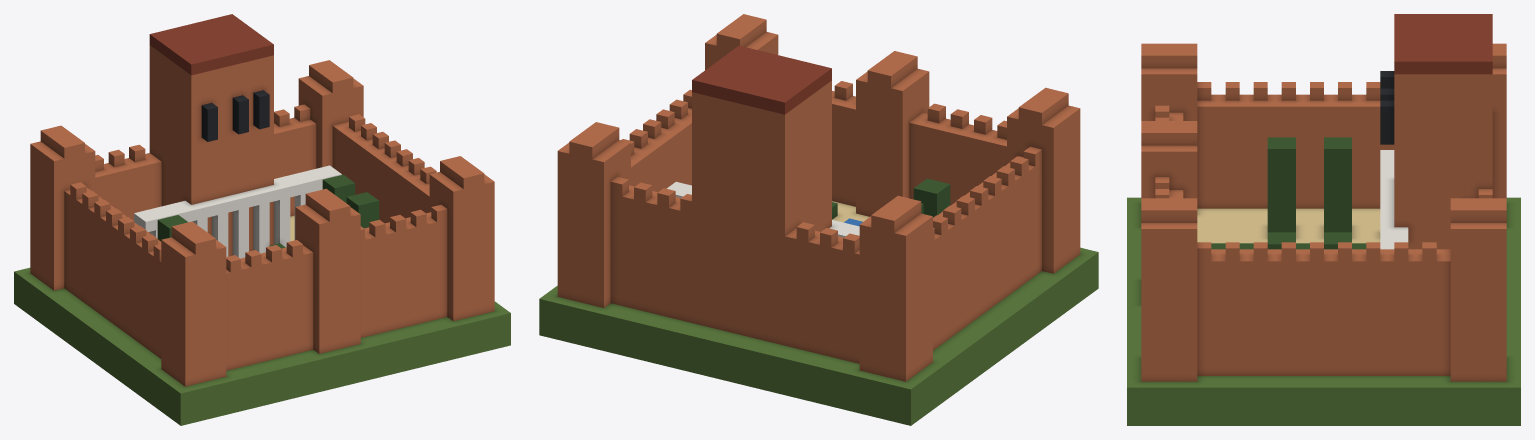
The model's file is w_alhambra.glb.
3 renders of one model, left to right at view 1: azimuth 30°, elevation 25°; view 2: azimuth 150°, elevation 25°; view 3: azimuth 270°, elevation 25°, orthographic. The views are drawn at different scales.
Parts seen in each view (by area): view 1: w_alhambra_body; view 2: w_alhambra_body; view 3: w_alhambra_body.
Boxes of the visible parts, x1,y1,x2,y2 form: w_alhambra_body: [14, 14, 510, 425]; w_alhambra_body: [539, 14, 1098, 425]; w_alhambra_body: [1127, 14, 1520, 425].
Size of the model in its own units: 2 by 1.44 by 1.75.
Materials: 1 (1 with a texture image).
